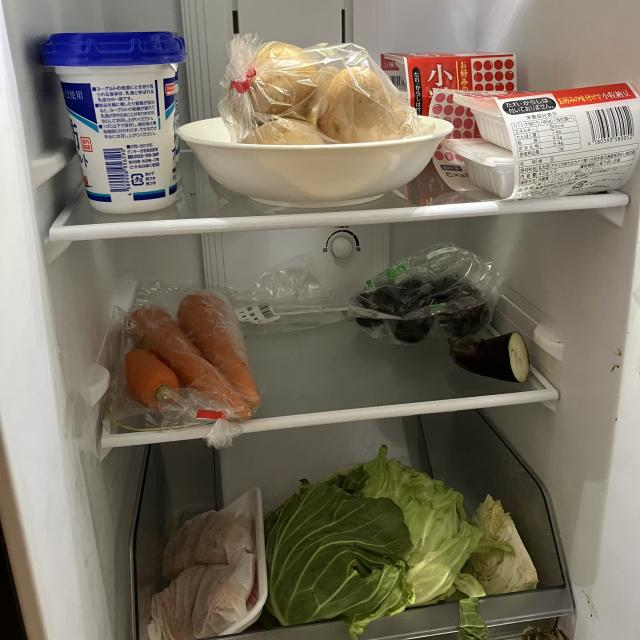cabbage: (265, 444, 485, 637), (472, 492, 544, 601)
carrot: (127, 303, 253, 423), (177, 290, 262, 410), (118, 348, 181, 415)
eggplant: (448, 330, 536, 386), (436, 270, 491, 337), (391, 275, 439, 347), (350, 276, 405, 331)
